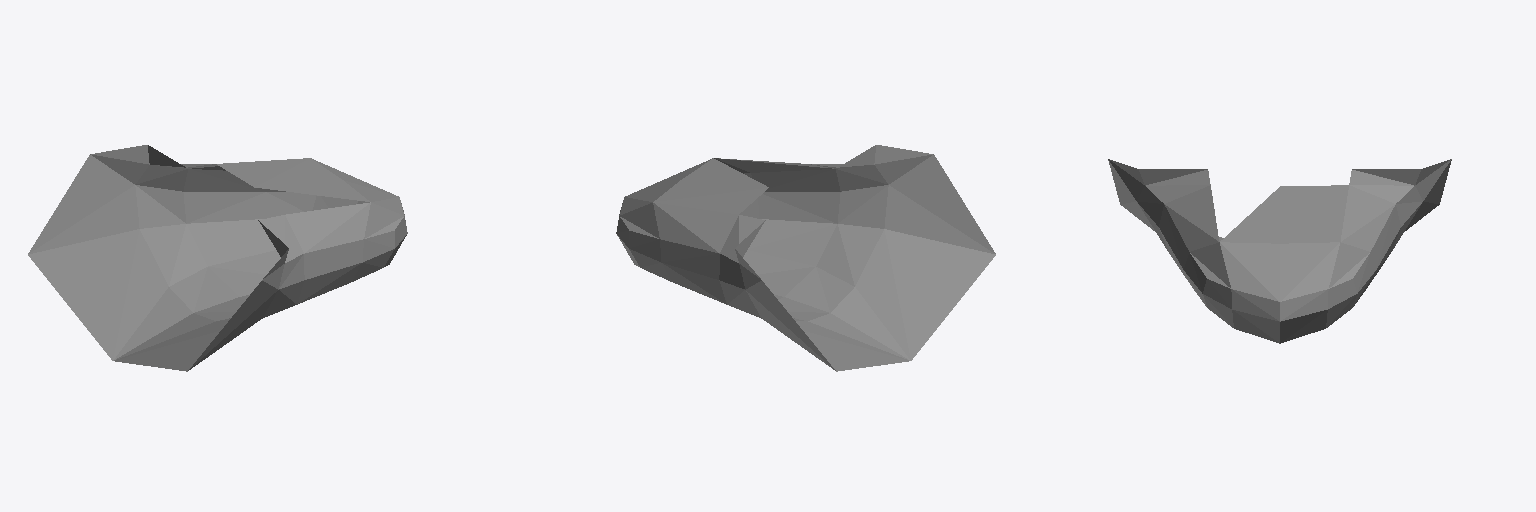
The model's file is WolfMouth.obj.
3 views of the same model, side by side, from view 1: azimuth 30°, elevation 25°; view 2: azimuth 150°, elevation 25°; view 3: azimuth 270°, elevation 25° (orthographic).
Visible parts, largest first — view 1: WMouth; view 2: WMouth; view 3: WMouth.
Part boxes in pixels (x1,y1,x2,y2): WMouth: (28, 145, 407, 371); WMouth: (616, 145, 995, 371); WMouth: (1108, 159, 1451, 343).
Size of the model in its own units: 1.04 by 0.4698 by 1.04.